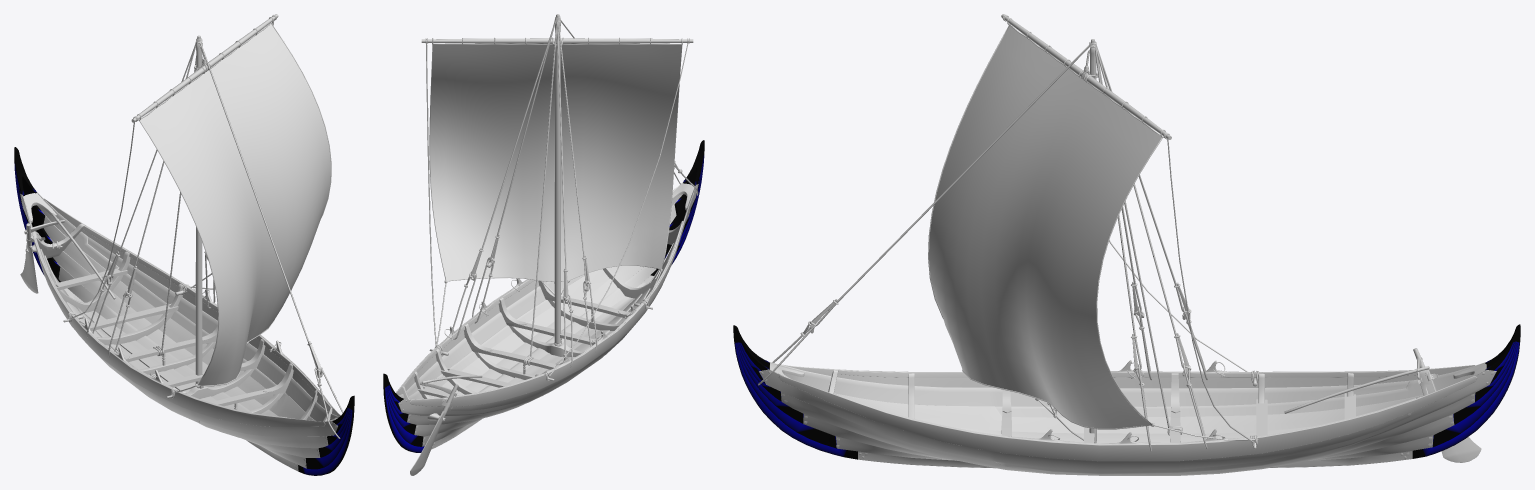
File: Gislinge_Boat.fbx
3 views of the same model, side by side, from view 1: azimuth 30°, elevation 25°; view 2: azimuth 150°, elevation 25°; view 3: azimuth 270°, elevation 25° (orthographic). The views are drawn at different scales.
Visible parts, largest first — view 1: Sail Full, Planking, Frames, Stems, Stringer, Sail Ropes, Shrouds, Keel, Mast, Stay, Yard, Rudder (+2 smaller); view 2: Sail Full, Planking, Frames, Shrouds, Sail Ropes, Stems, Mast, Stringer, Yard, Keel, Rudder, Yard Rope; view 3: Sail Full, Planking, Stems, Stringer, Shrouds, Frames, Sail Ropes, Keel, Stay, Yard, Rudder.
Part boxes in pixels (bbox=[...]): Sail Full: bbox=[140, 24, 330, 385]; Planking: bbox=[20, 191, 340, 468]; Frames: bbox=[23, 193, 337, 421]; Stems: bbox=[14, 147, 354, 475]; Stringer: bbox=[35, 226, 331, 417]; Sail Ropes: bbox=[70, 20, 331, 393]; Shrouds: bbox=[86, 42, 215, 357]; Keel: bbox=[64, 288, 298, 471]; Mast: bbox=[195, 35, 202, 388]; Stay: bbox=[196, 38, 343, 438]; Yard: bbox=[131, 14, 278, 122]; Rudder: bbox=[20, 220, 64, 293]; Sail Full: bbox=[430, 44, 681, 281]; Planking: bbox=[396, 181, 698, 447]; Frames: bbox=[414, 183, 694, 398]; Shrouds: bbox=[452, 19, 597, 367]; Sail Ropes: bbox=[426, 43, 688, 377]; Stems: bbox=[383, 140, 704, 452]; Mast: bbox=[554, 14, 561, 346]; Stringer: bbox=[403, 223, 682, 396]; Yard: bbox=[421, 37, 693, 46]; Keel: bbox=[431, 275, 653, 449]; Rudder: bbox=[410, 382, 458, 475]; Yard Rope: bbox=[524, 24, 556, 365]; Sail Full: bbox=[929, 25, 1161, 428]; Planking: bbox=[759, 361, 1496, 475]; Stems: bbox=[733, 324, 1520, 459]; Stringer: bbox=[838, 360, 1416, 444]; Shrouds: bbox=[1095, 44, 1207, 451]; Frames: bbox=[769, 363, 1486, 442]; Sail Ropes: bbox=[928, 23, 1258, 443]; Keel: bbox=[858, 450, 1412, 468]; Stay: bbox=[758, 41, 1096, 385]; Yard: bbox=[1001, 14, 1171, 139]; Rudder: bbox=[1413, 348, 1481, 462].
Size of the model in its own units: 315 by 464 by 771.
